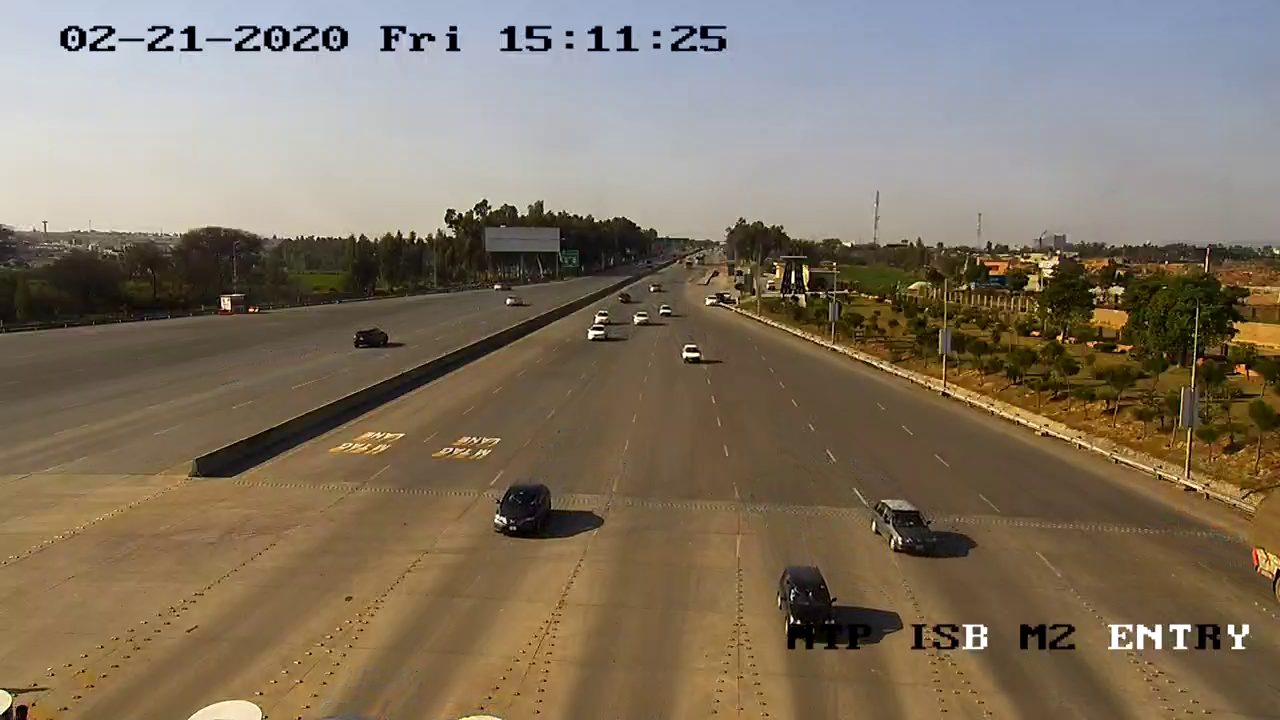f1: (763, 554, 848, 649), (864, 492, 947, 569), (486, 475, 566, 546)
